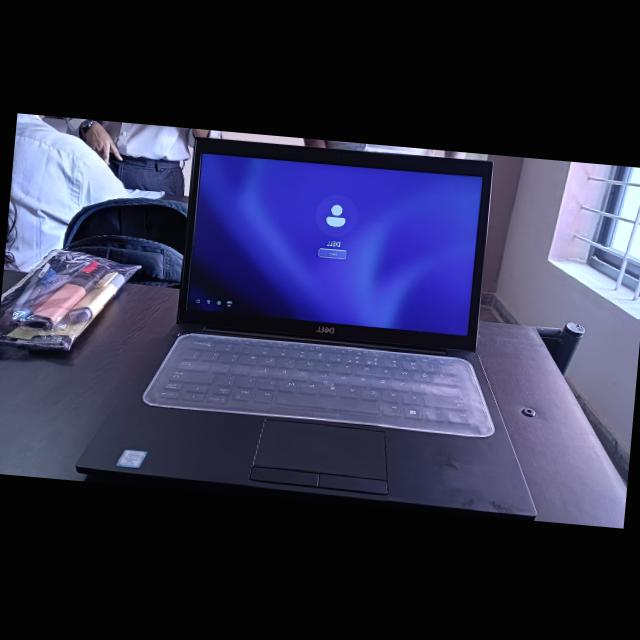laptop: (73, 122, 572, 520)
